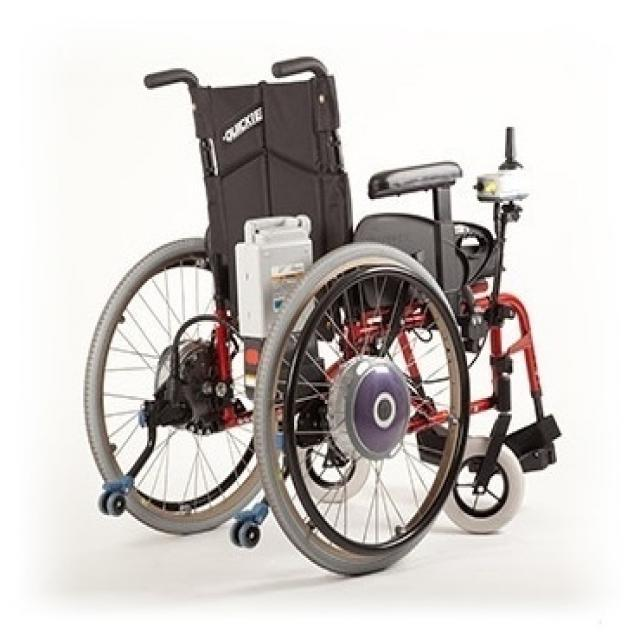wheelchair: (78, 46, 577, 585)
